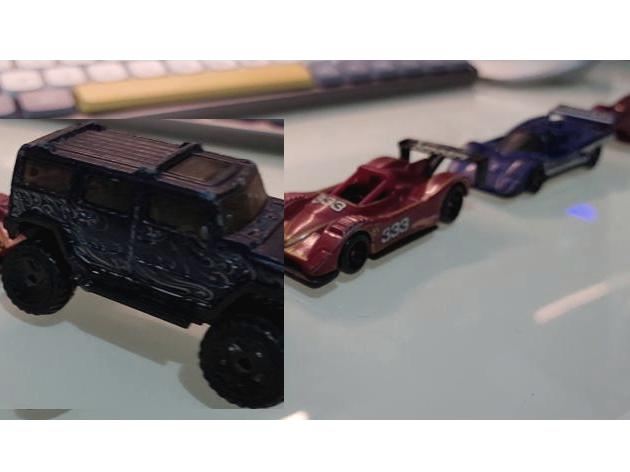toy-car: (0, 119, 284, 409), (276, 137, 481, 290), (461, 102, 619, 200)
